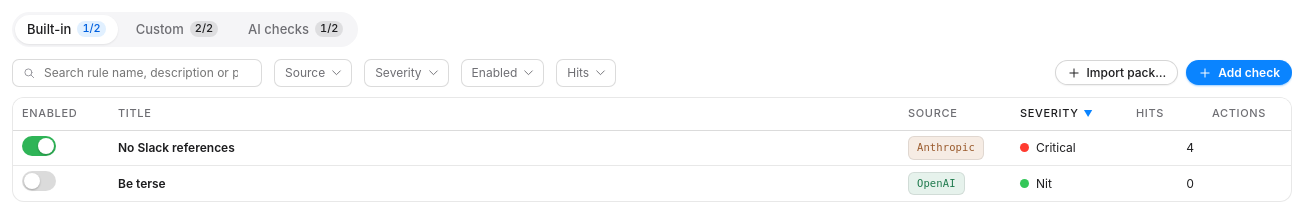
Test: ChecksLibrary › puts the row back and says so when a delete does not land
Expected: the table is shown, left=13, top=98, right=1291, bottom=200
What coordinates should you click on to do the following:
click the tab "Custom 2/2"
I would click on:
 (177, 29)
Its box is left=124, top=15, right=230, bottom=44.
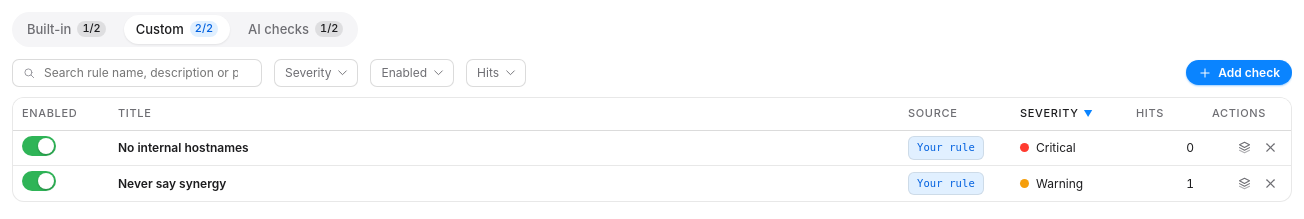
What coordinates should you click on to do the following:
click the button named "Delete Never say synergy"
I would click on:
 (1270, 183)
Its box is left=1258, top=171, right=1282, bottom=195.
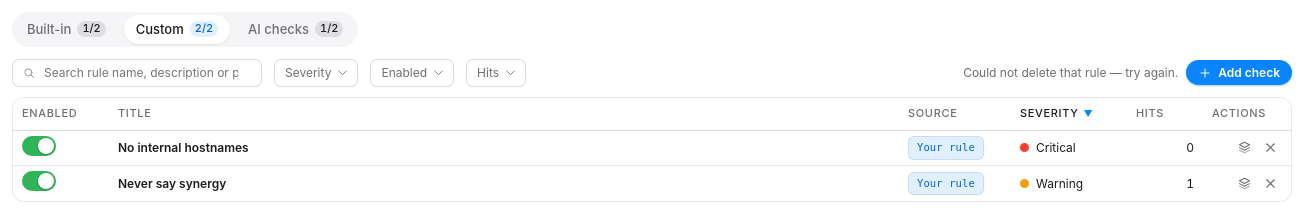
Expected: the message shows "Could not delete that rule", left=963, top=65, right=1178, bottom=80
